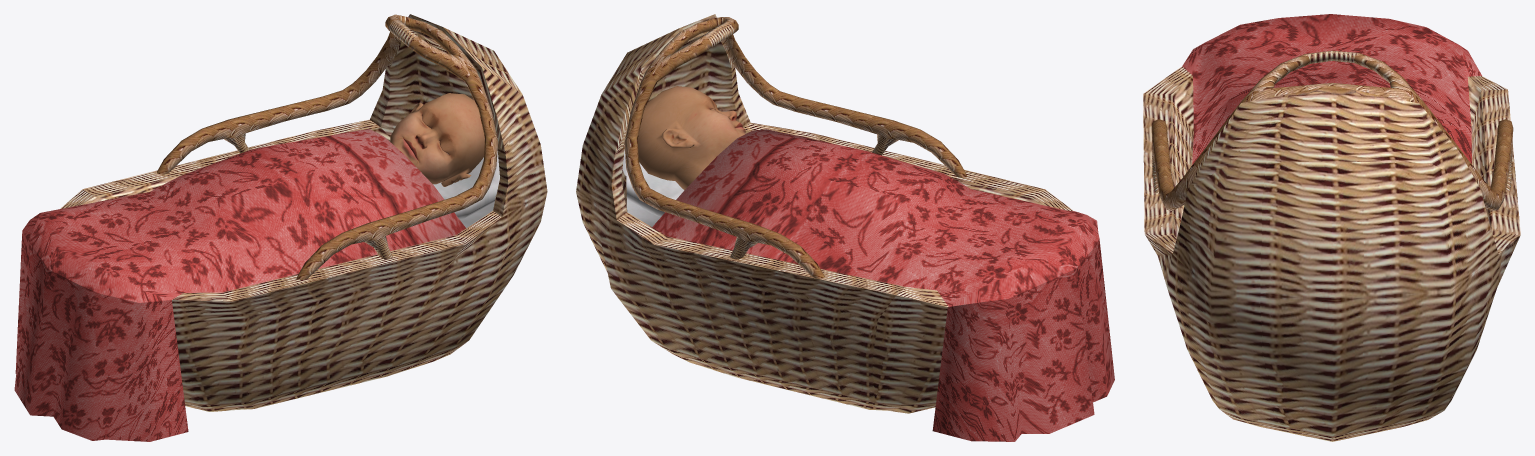
Rendered from M_Home_Garden_Lil_Crystal1.fbx.
The picture shows the model from 3 angles, left to right: view 1: azimuth 30°, elevation 25°; view 2: azimuth 150°, elevation 25°; view 3: azimuth 270°, elevation 25°; orthographic projection. The views are drawn at different scales.
Parts seen in each view (by area): view 1: M_Home_Garden_Lil_Crystal1; view 2: M_Home_Garden_Lil_Crystal1; view 3: M_Home_Garden_Lil_Crystal1.
Part boxes in pixels (bbox=[...]): M_Home_Garden_Lil_Crystal1: bbox=[14, 14, 547, 441]; M_Home_Garden_Lil_Crystal1: bbox=[576, 14, 1114, 441]; M_Home_Garden_Lil_Crystal1: bbox=[1143, 14, 1520, 441].
Bounding box in the file's own units: 98.71 × 57.36 × 53.73.
